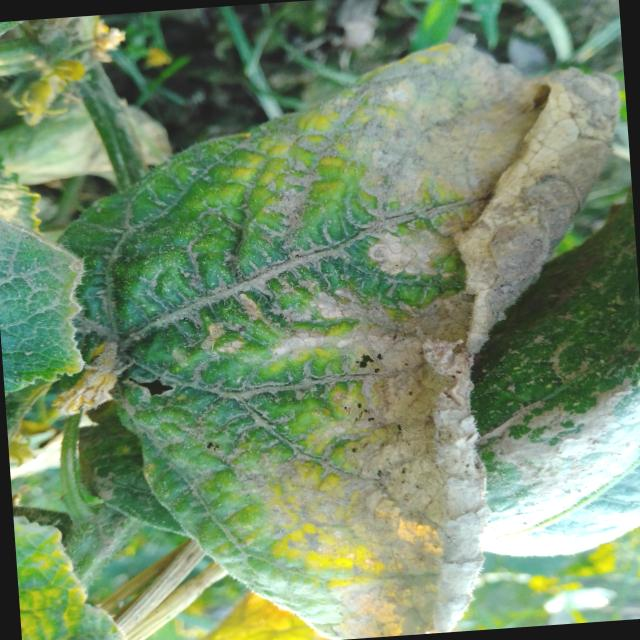cucumber_gummy: (65, 20, 640, 640), (420, 187, 640, 581), (0, 121, 94, 416), (0, 68, 202, 201)
